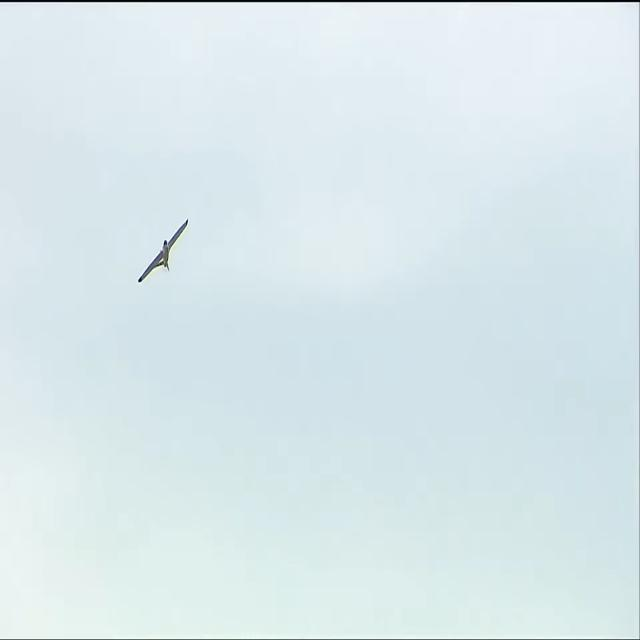iha: (138, 250, 190, 252)
